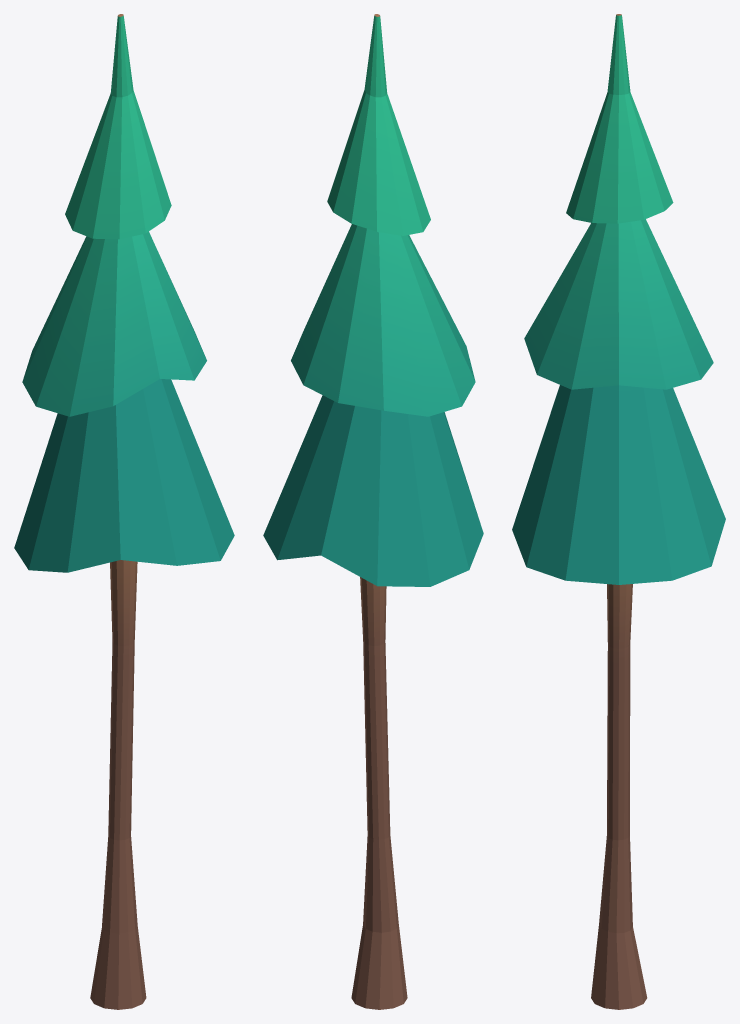
File: Sapin_02.obj
3 renders of one model, left to right at view 1: azimuth 30°, elevation 25°; view 2: azimuth 150°, elevation 25°; view 3: azimuth 270°, elevation 25°, orthographic.
Parts seen in each view (by area): view 1: Cylinder.001; view 2: Cylinder.001; view 3: Cylinder.001.
Part boxes in pixels (x1,y1,x2,y2): Cylinder.001: (14,14,234,1009); Cylinder.001: (263,14,483,1009); Cylinder.001: (512,14,725,1009).
Bounding box in the file's own units: 3.24 × 15.85 × 3.12.
